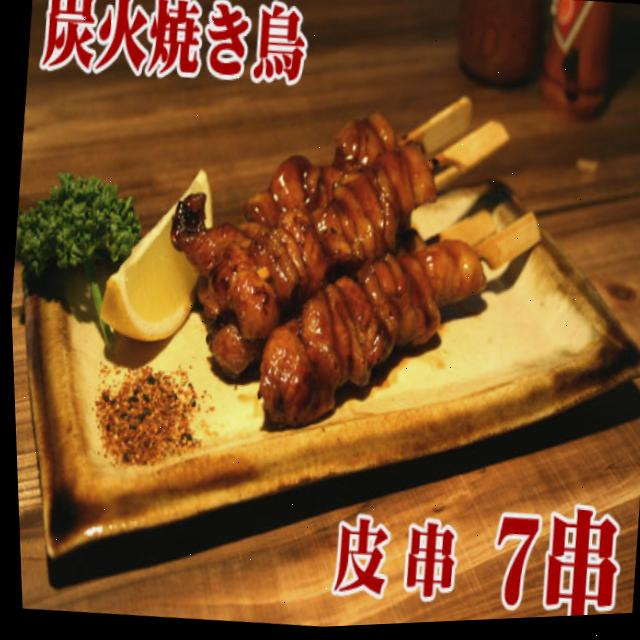烧串烤肉: (145, 77, 564, 470)
